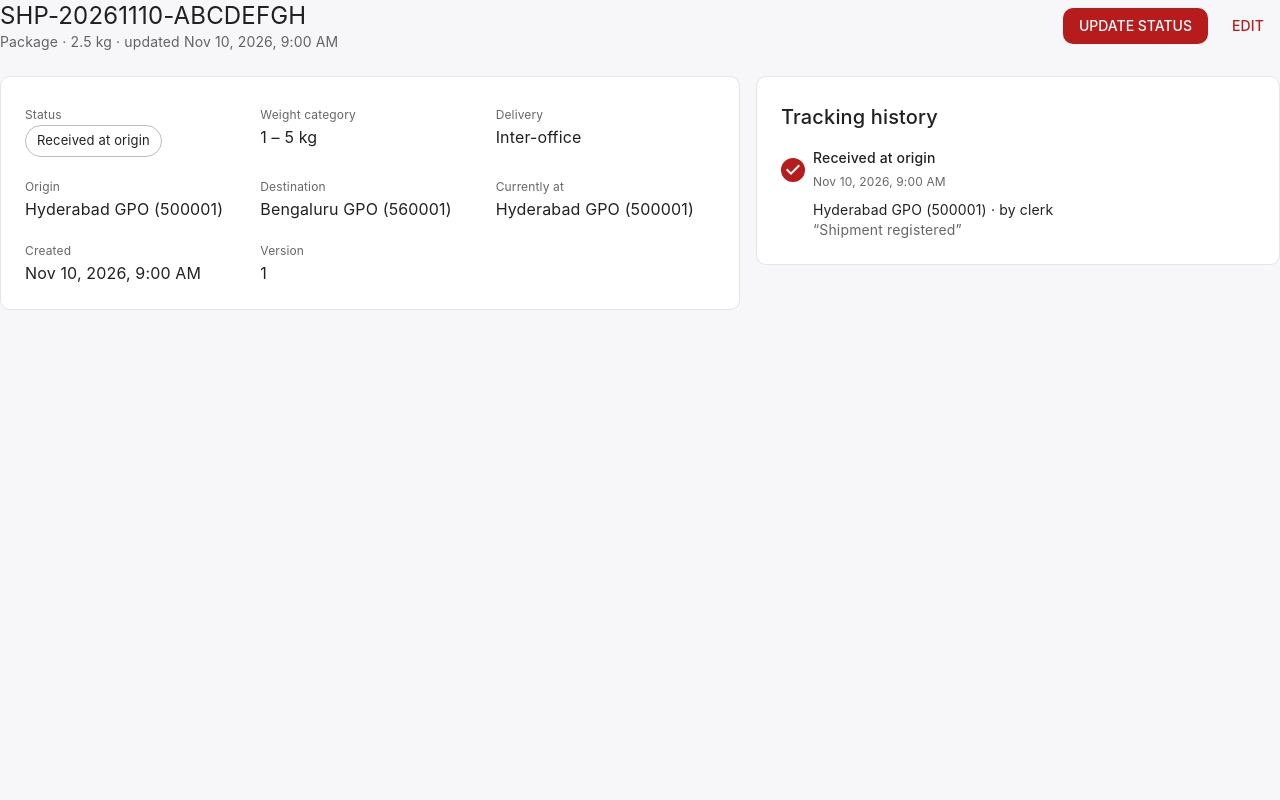
Test: ShipmentDetailsPage › offers every other status in the regular update dialog
Step 1. Click the button "Update status" → (1135, 26), box top-left (1063, 8), bottom-right (1208, 44)
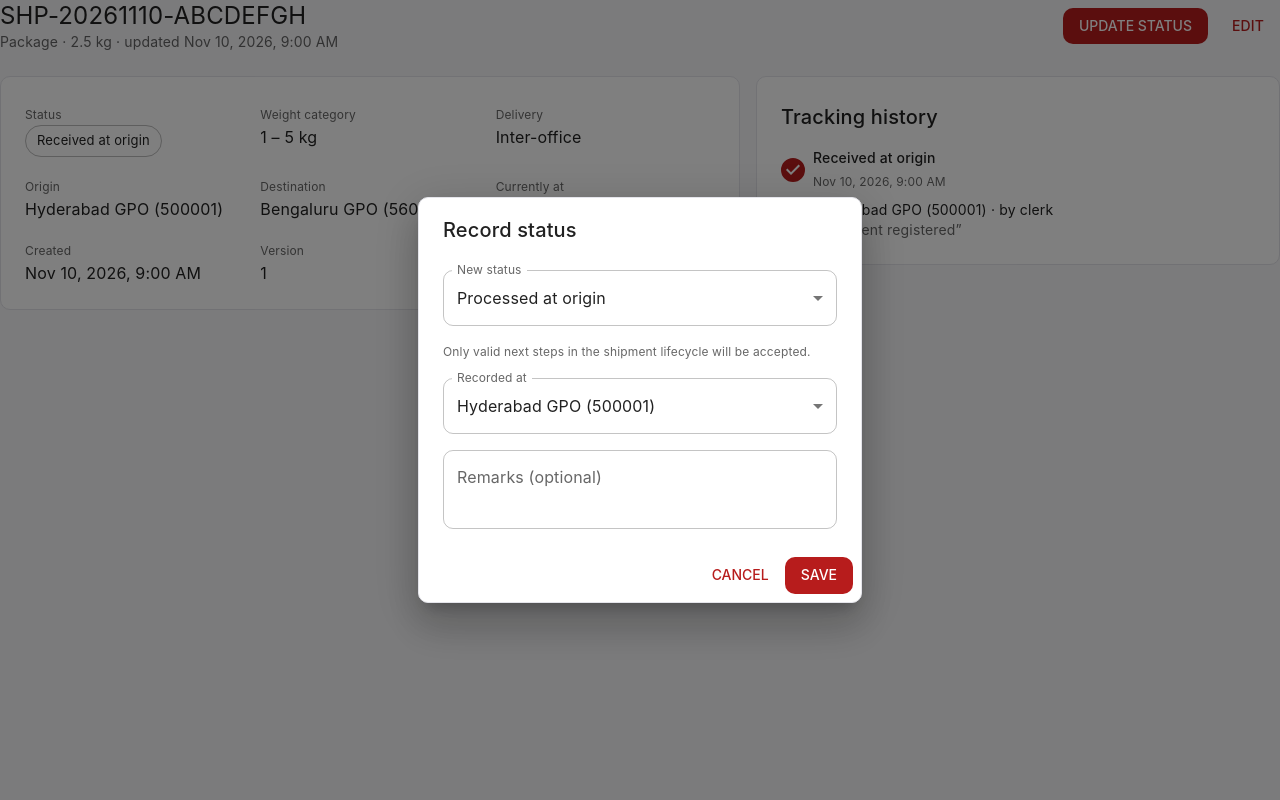
Step 2. Click the dropdown named "New status" → (531, 298), box top-left (457, 288), bottom-right (606, 308)
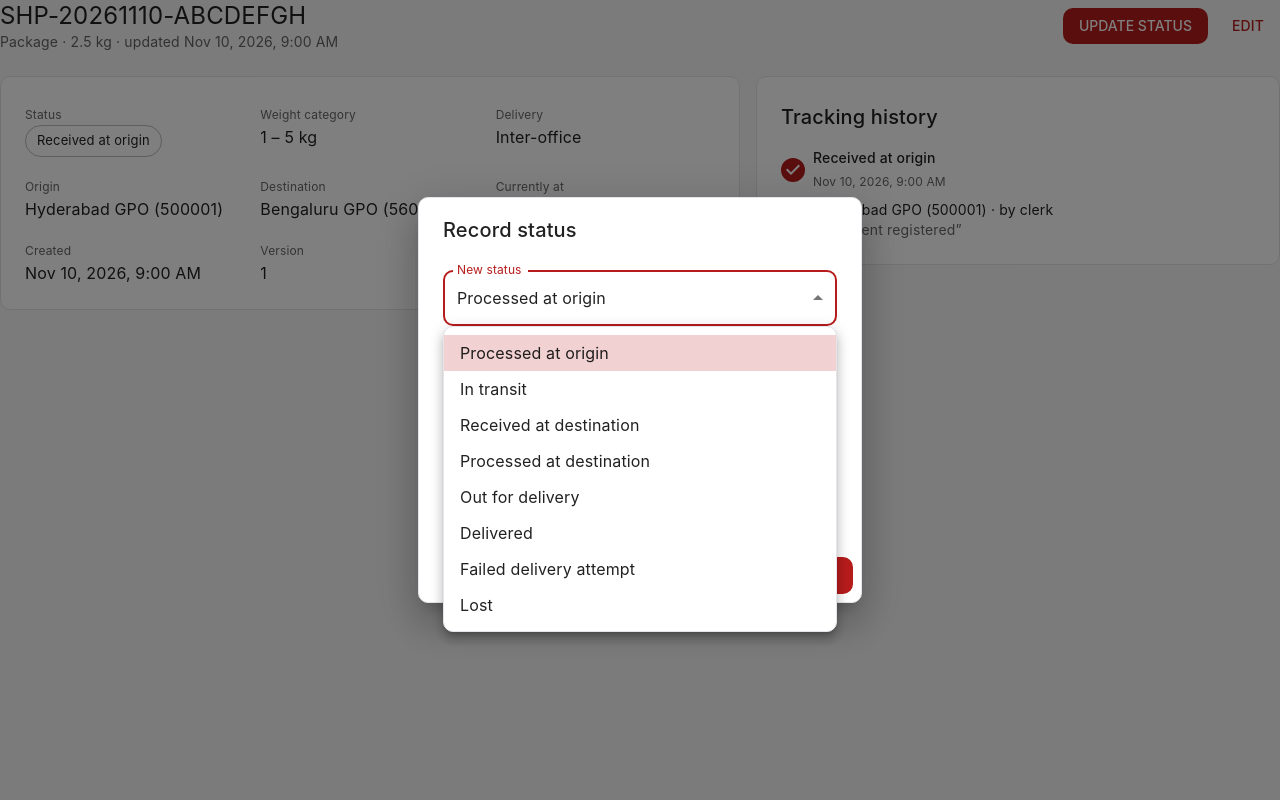
expect the option "Processed at origin" is shown: met, box top-left (444, 335), bottom-right (836, 371)
expect the option "In transit" is shown: met, box top-left (460, 379), bottom-right (527, 399)
expect the option "Received at destination" is shown: met, box top-left (460, 415), bottom-right (640, 435)
